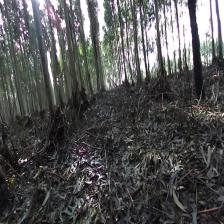trunk: (34, 16, 57, 111), (188, 3, 205, 98), (64, 18, 78, 92), (154, 3, 165, 74), (215, 5, 224, 60)
